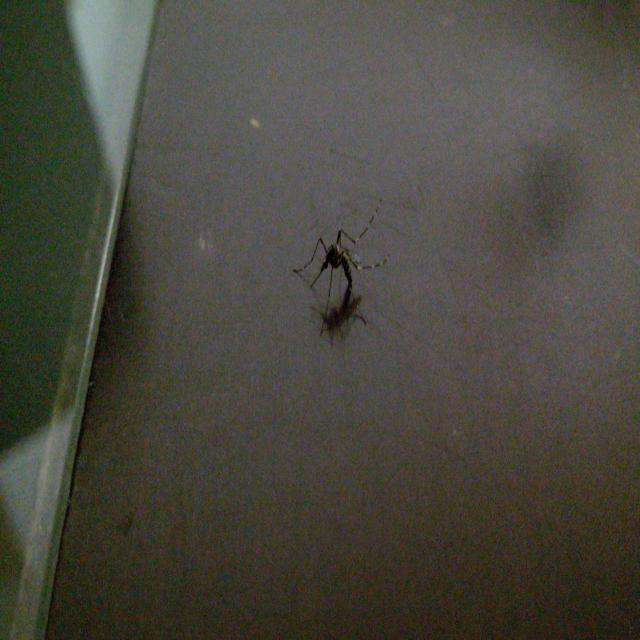albopictus: (290, 210, 379, 332)
